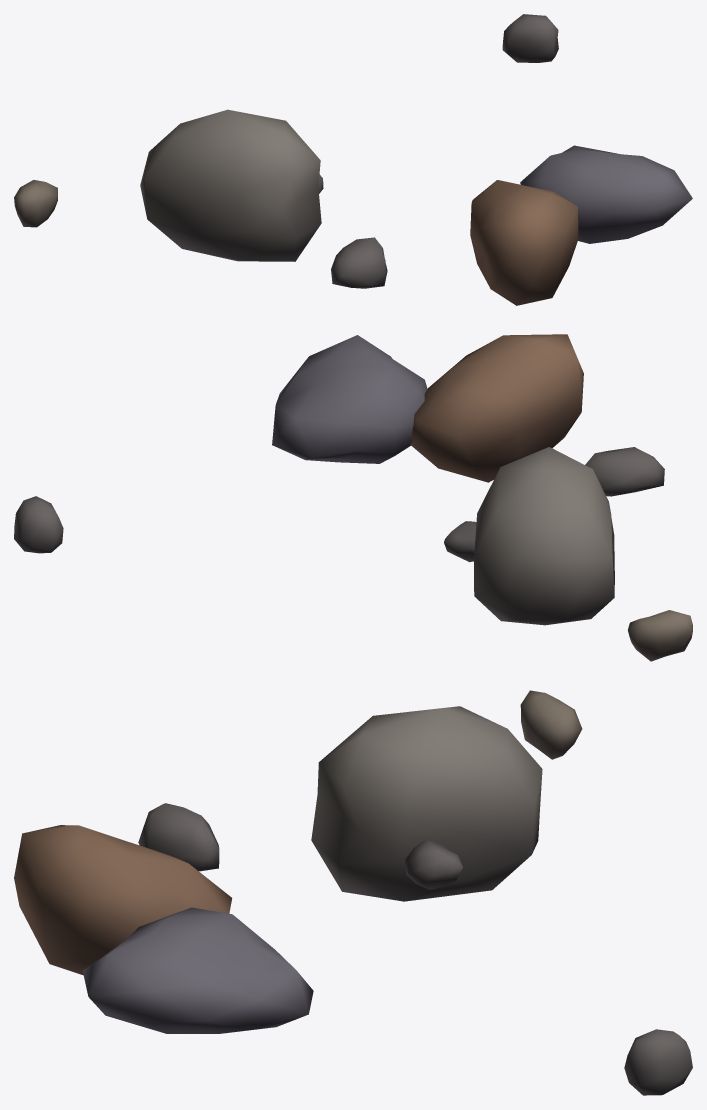
Rendered from yd_stones__213.glb.
3 renders of one model, top to bottom at view 1: azimuth 30°, elevation 25°; view 2: azimuth 150°, elevation 25°; view 3: azimuth 270°, elevation 25°, orthographic. The views are drawn at different scales.
Visible parts, largest first — view 1: prop_yd_stones; view 2: prop_yd_stones; view 3: prop_yd_stones.
Boxes of the visible parts, <box> form: prop_yd_stones: <box>14,14,692,305</box>; prop_yd_stones: <box>14,334,692,661</box>; prop_yd_stones: <box>14,690,692,1095</box>.
Bounding box in the file's own units: 0.9569 × 0.2281 × 0.7528.
